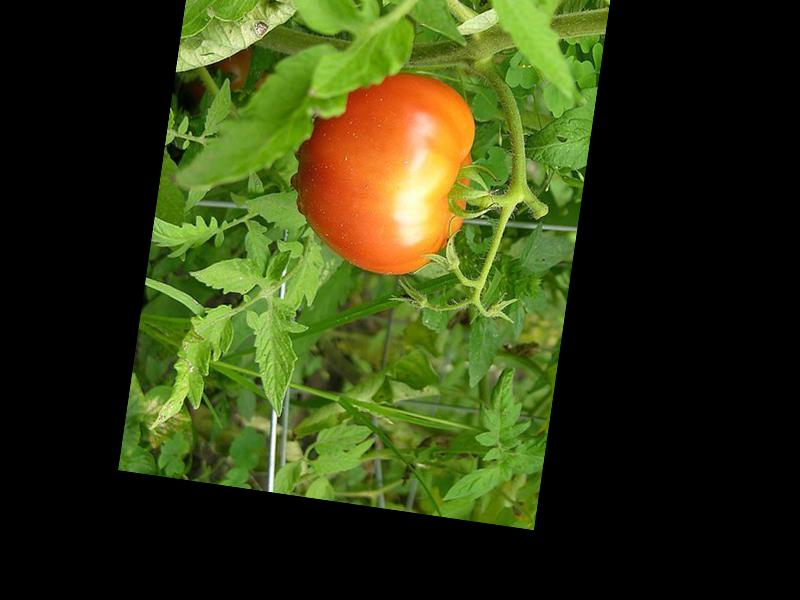Tomato: (287, 61, 485, 282)
